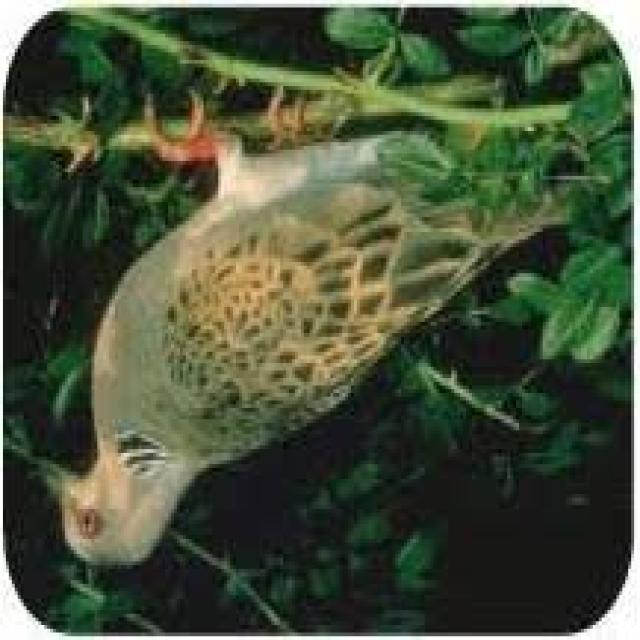pigeon: (40, 95, 586, 570)
